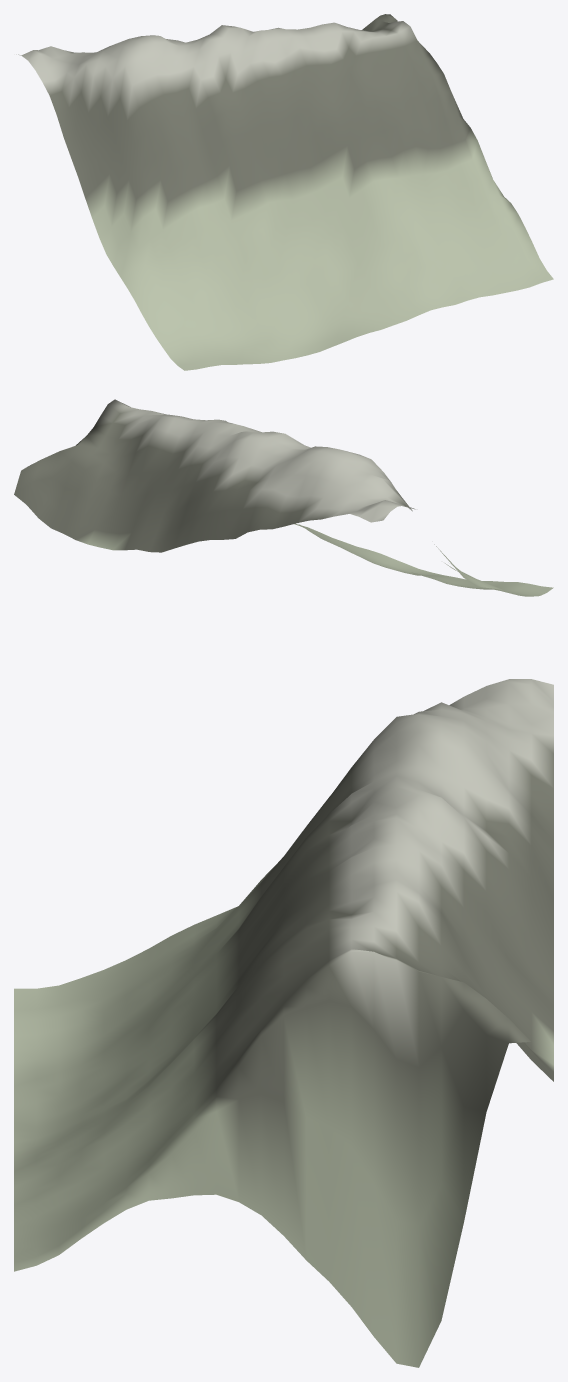
3 renders of one model, top to bottom at view 1: azimuth 30°, elevation 25°; view 2: azimuth 150°, elevation 25°; view 3: azimuth 270°, elevation 25°, orthographic. The views are drawn at different scales.
Parts seen in each view (by area): view 1: world-ground/60-24; view 2: world-ground/60-24; view 3: world-ground/60-24.
Part boxes in pixels (left/top/right/bottom): world-ground/60-24: left=16, top=14, right=553, bottom=370; world-ground/60-24: left=14, top=399, right=553, bottom=596; world-ground/60-24: left=14, top=679, right=553, bottom=1367.
Bounding box in the file's own units: 37.5 × 26.27 × 30.
